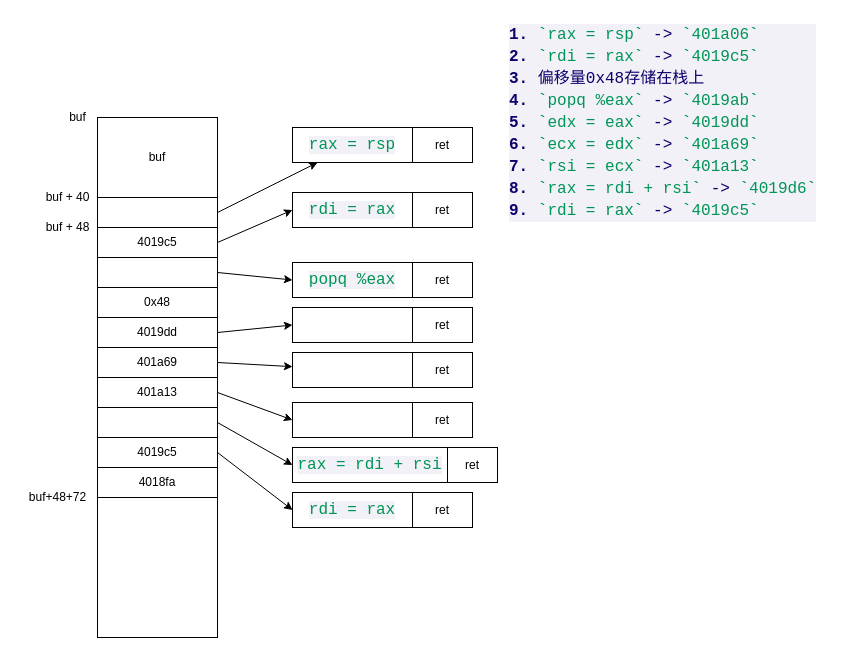
Image size: 864x655. Some labels were removed from this diagram. The shapes that lost their labels are listed below. From the top down, each one's centre as x and y in pixels, then its label:
point (157, 212): 401a06
point (157, 272): 4019ab
point (352, 324): edx = eax
point (352, 370): ecx = edx
point (157, 422): 4019d6
point (352, 420): rsi = ecx
point (157, 567): 0x35 0x39 0x62 0x39 0x39 0x37 0x66 0x61 0x00
